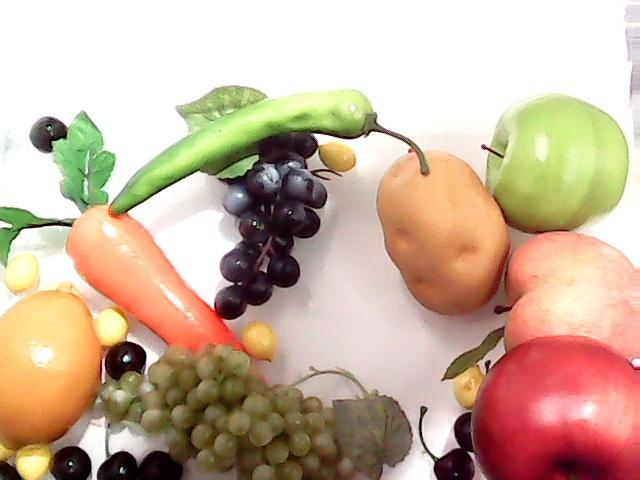apple: (459, 334, 640, 477), (472, 92, 636, 234)
carrot: (0, 105, 252, 359)
grape: (80, 344, 414, 480), (172, 77, 328, 321)
lemon: (0, 277, 112, 458)
peach: (494, 229, 640, 363)
pepper: (102, 82, 430, 230)
potato: (374, 147, 510, 316)
